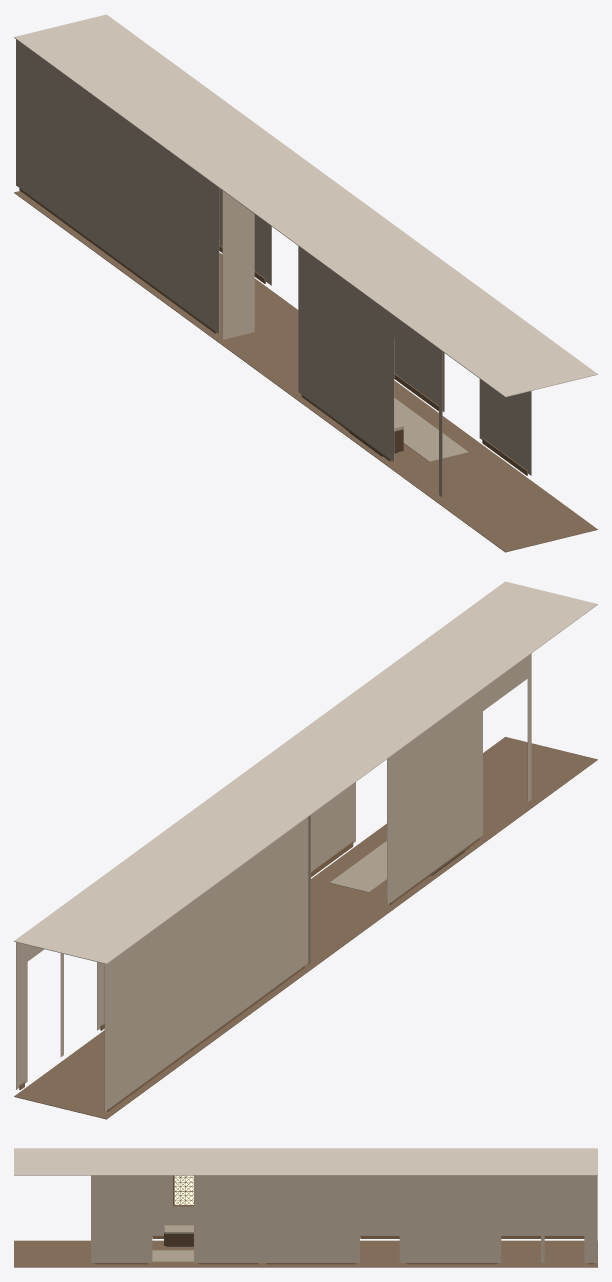
Rendered from corridor-1.glb.
3 views of the same model, one above another, from view 1: azimuth 30°, elevation 25°; view 2: azimuth 150°, elevation 25°; view 3: azimuth 270°, elevation 25° (orthographic). The views are drawn at different scales.
Parts seen in each view (by area): view 1: DESIGN | Entrance coordinated ceiling, DESIGN | Entrance paired wall finish, DESIGN | Entrance floor finish, DESIGN | Entrance paired wall finish.003, DESIGN | Arch approach finish, DESIGN | Entrance paired wall finish.013, DESIGN | Entrance quiet runner, DESIGN | Entrance paired wall finish.012, DESIGN | Entrance paired wall finish.006, DESIGN | Entrance paired wall finish.002; view 2: DESIGN | Entrance coordinated ceiling, DESIGN | Entrance paired wall finish, DESIGN | Entrance floor finish, DESIGN | Entrance paired wall finish.003, DESIGN | Entrance paired wall finish.012, DESIGN | Entrance paired wall finish.005, DESIGN | Entrance quiet runner, DESIGN | Entrance paired wall finish.002, DESIGN | Entrance paired wall finish.001; view 3: DESIGN | Entrance coordinated ceiling, DESIGN | Entrance paired wall finish.006, DESIGN | Entrance paired wall finish.009, DESIGN | Entrance floor finish, DESIGN | Entrance paired wall finish.012, DESIGN | Entrance paired wall finish, DESIGN | Entrance paired wall finish.013, DESIGN | Entrance paired wall finish.003, DESIGN | Entrance paired wall finish.005, DESIGN | Entrance paired wall finish.007, DESIGN | Entrance paired wall finish.010, DESIGN | Entrance paired wall finish.004 (+8 smaller).
Part boxes in pixels (<box>): DESIGN | Entrance coordinated ceiling: <box>14,14,597,397</box>; DESIGN | Entrance paired wall finish: <box>16,39,219,333</box>; DESIGN | Entrance floor finish: <box>14,191,597,552</box>; DESIGN | Entrance paired wall finish.003: <box>298,246,394,461</box>; DESIGN | Arch approach finish: <box>222,190,254,339</box>; DESIGN | Entrance paired wall finish.013: <box>479,379,531,475</box>; DESIGN | Entrance quiet runner: <box>394,398,468,461</box>; DESIGN | Entrance paired wall finish.012: <box>394,339,444,411</box>; DESIGN | Entrance paired wall finish.006: <box>219,188,268,283</box>; DESIGN | Entrance paired wall finish.002: <box>394,316,438,370</box>; DESIGN | Entrance coordinated ceiling: <box>14,581,597,964</box>; DESIGN | Entrance paired wall finish: <box>104,817,308,1111</box>; DESIGN | Entrance floor finish: <box>14,737,597,1119</box>; DESIGN | Entrance paired wall finish.003: <box>387,689,482,904</box>; DESIGN | Entrance paired wall finish.012: <box>311,782,355,871</box>; DESIGN | Entrance paired wall finish.005: <box>16,942,27,1089</box>; DESIGN | Entrance quiet runner: <box>329,841,386,892</box>; DESIGN | Entrance paired wall finish.002: <box>483,656,527,710</box>; DESIGN | Entrance paired wall finish.001: <box>527,653,531,801</box>; DESIGN | Entrance coordinated ceiling: <box>14,1148,597,1175</box>; DESIGN | Entrance paired wall finish.006: <box>402,1175,501,1262</box>; DESIGN | Entrance paired wall finish.009: <box>262,1175,359,1262</box>; DESIGN | Entrance floor finish: <box>14,1240,597,1267</box>; DESIGN | Entrance paired wall finish.012: <box>194,1175,262,1262</box>; DESIGN | Entrance paired wall finish: <box>360,1176,584,1236</box>; DESIGN | Entrance paired wall finish.013: <box>91,1175,152,1262</box>; DESIGN | Entrance paired wall finish.003: <box>152,1175,193,1236</box>; DESIGN | Entrance paired wall finish.005: <box>584,1175,597,1262</box>; DESIGN | Entrance paired wall finish.007: <box>501,1175,540,1191</box>; DESIGN | Entrance paired wall finish.010: <box>360,1175,399,1191</box>; DESIGN | Entrance paired wall finish.004: <box>545,1175,584,1191</box>.
Size of the model in its own units: 1.7 by 2.73 by 15.61.
